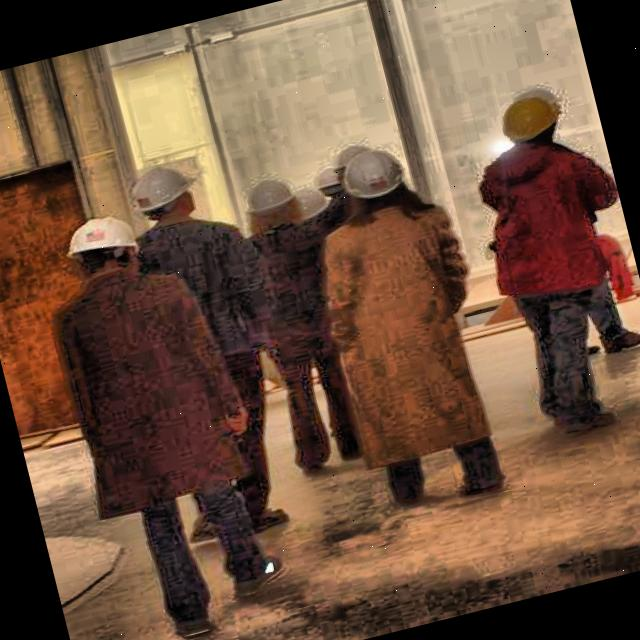helmet: (62, 209, 148, 287), (493, 83, 569, 152), (128, 161, 204, 229), (335, 144, 411, 210), (238, 172, 303, 234), (288, 178, 338, 228), (312, 166, 350, 202)
